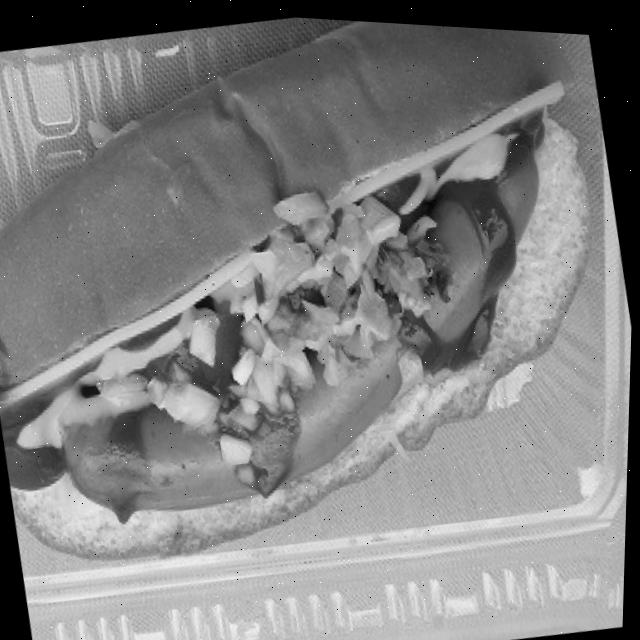汉堡快餐: (0, 0, 615, 599)
